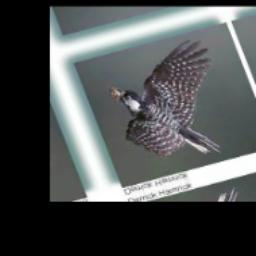Woodpecker: (90, 29, 250, 174)
